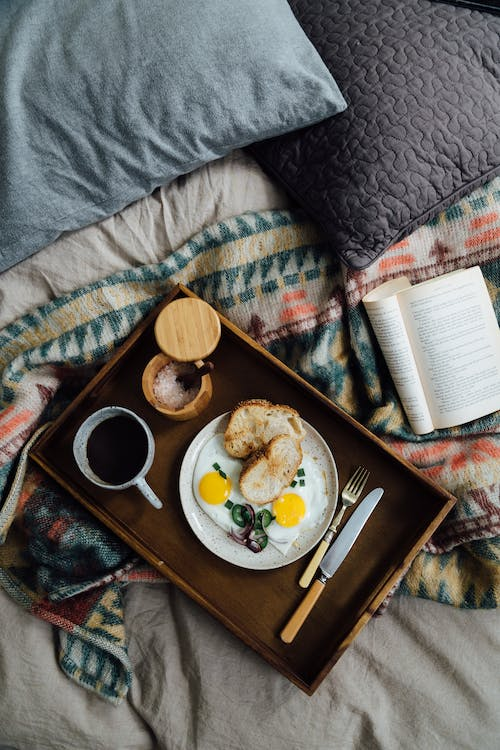knife: (276, 483, 389, 647)
